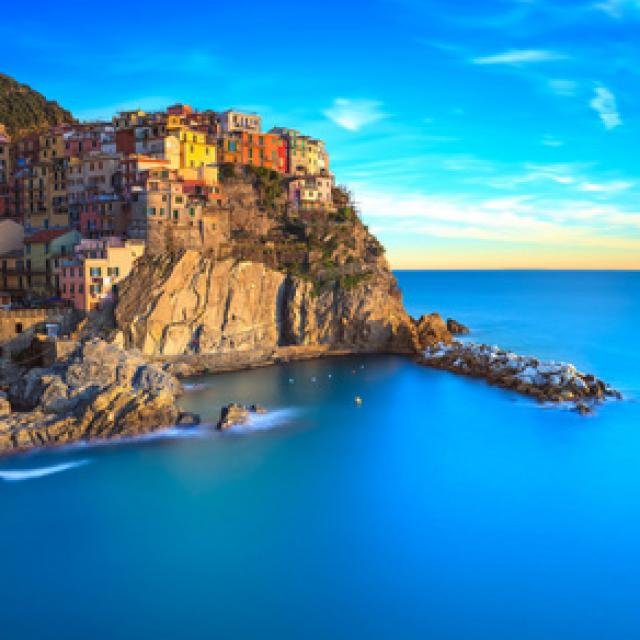reef: (388, 262, 628, 429)
